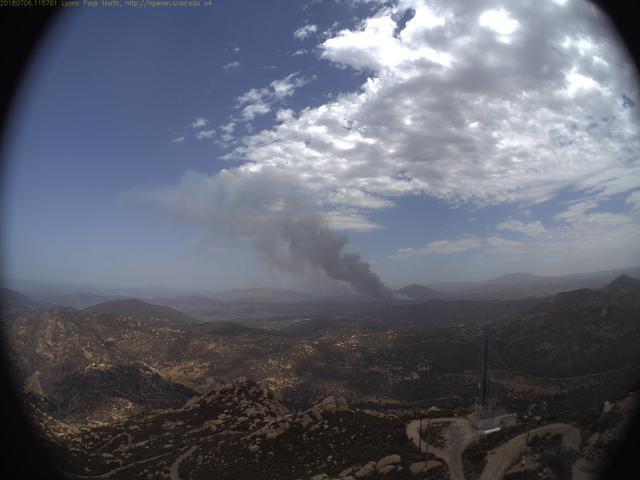smoke: (160, 164, 413, 317)
